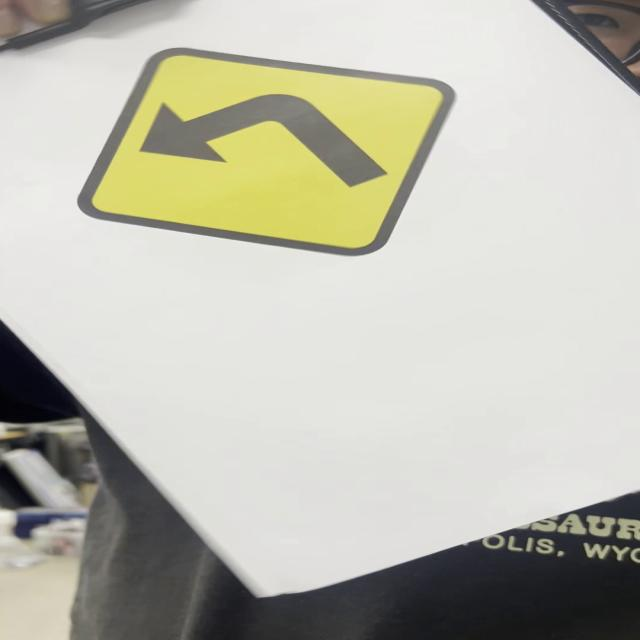left: (77, 49, 456, 258)
